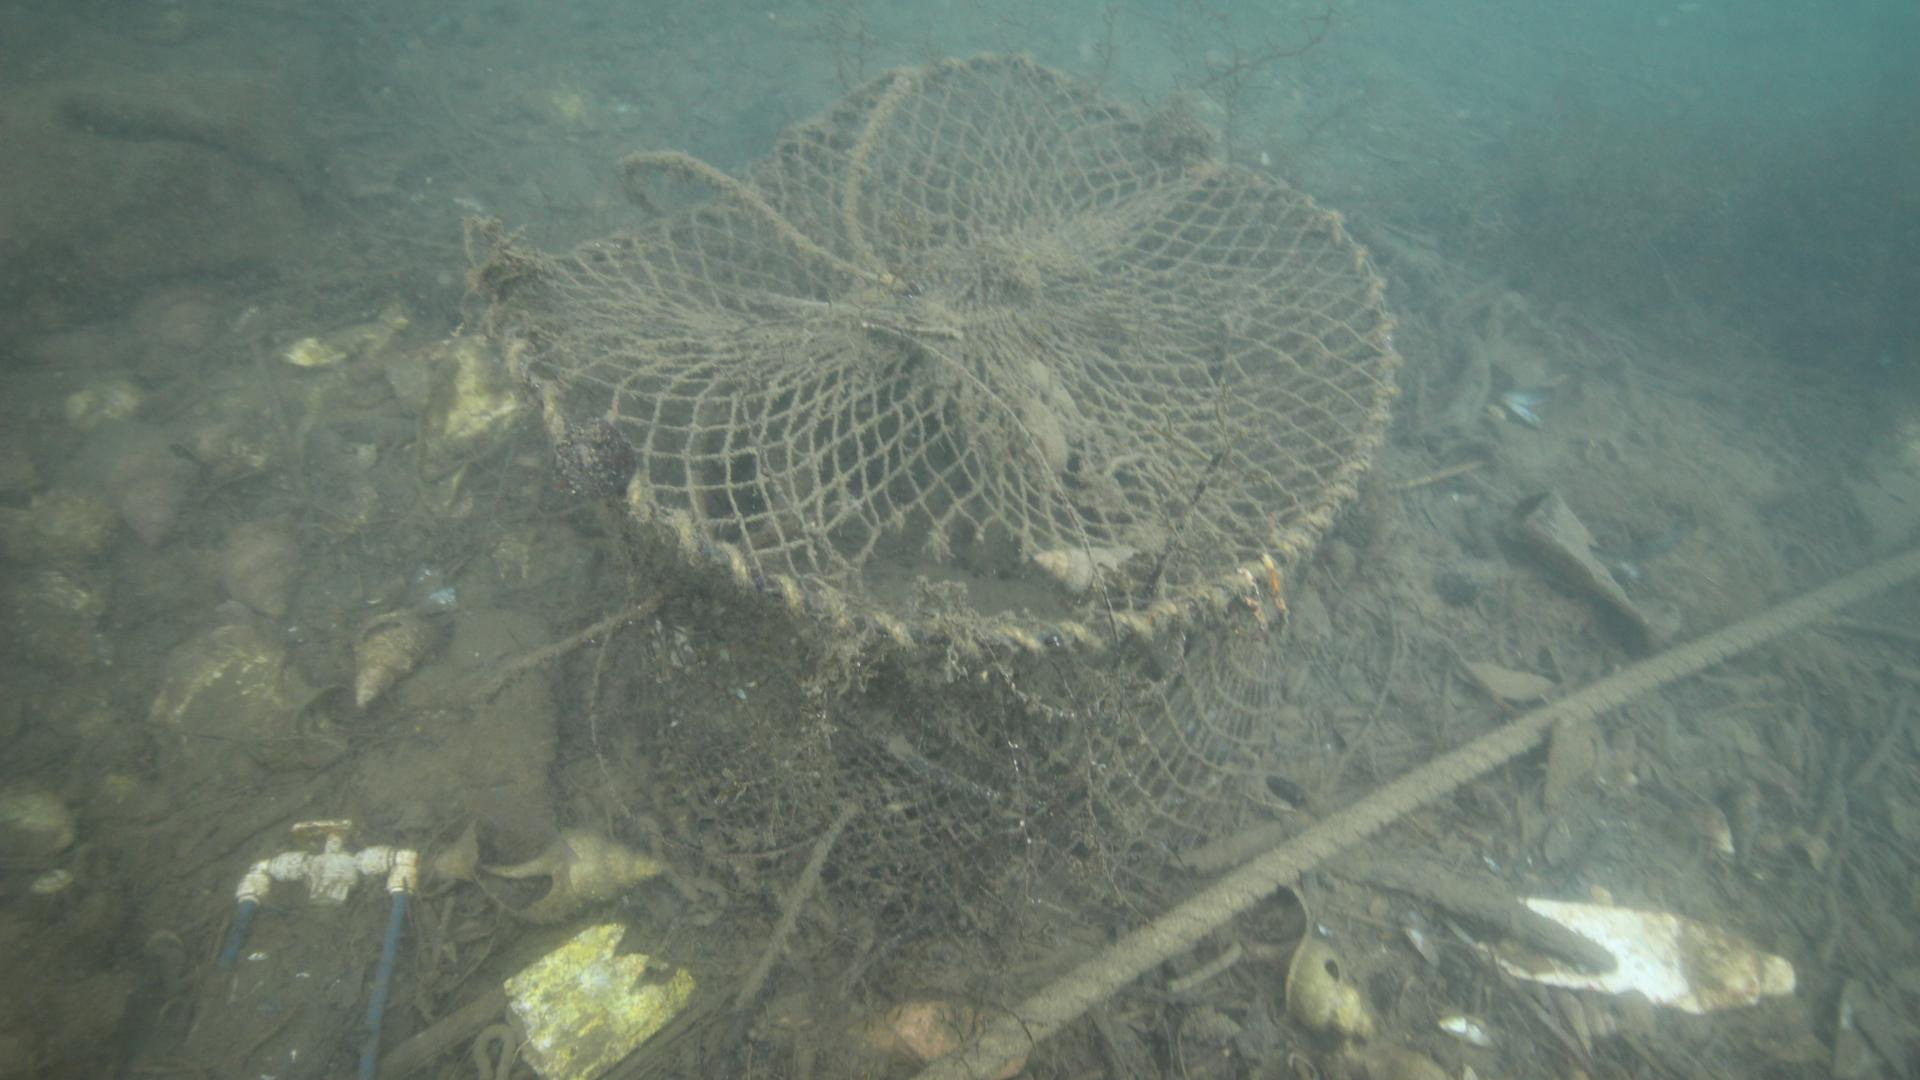circular fish trap: (483, 47, 1402, 909)
rope: (910, 542, 1920, 1080)
